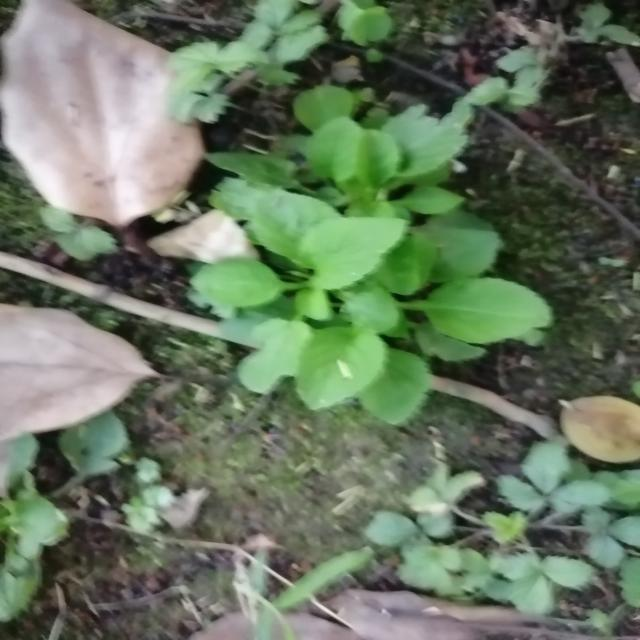Viola: (237, 131, 528, 425)
